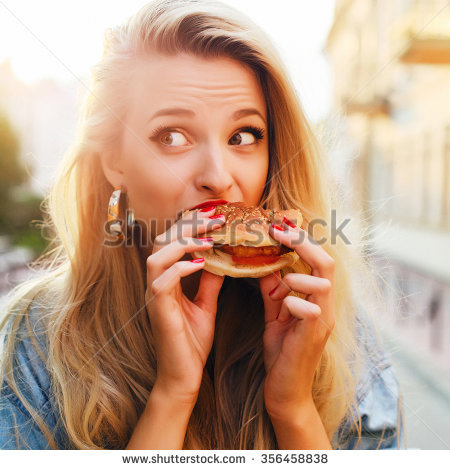eating: (58, 15, 372, 303)
